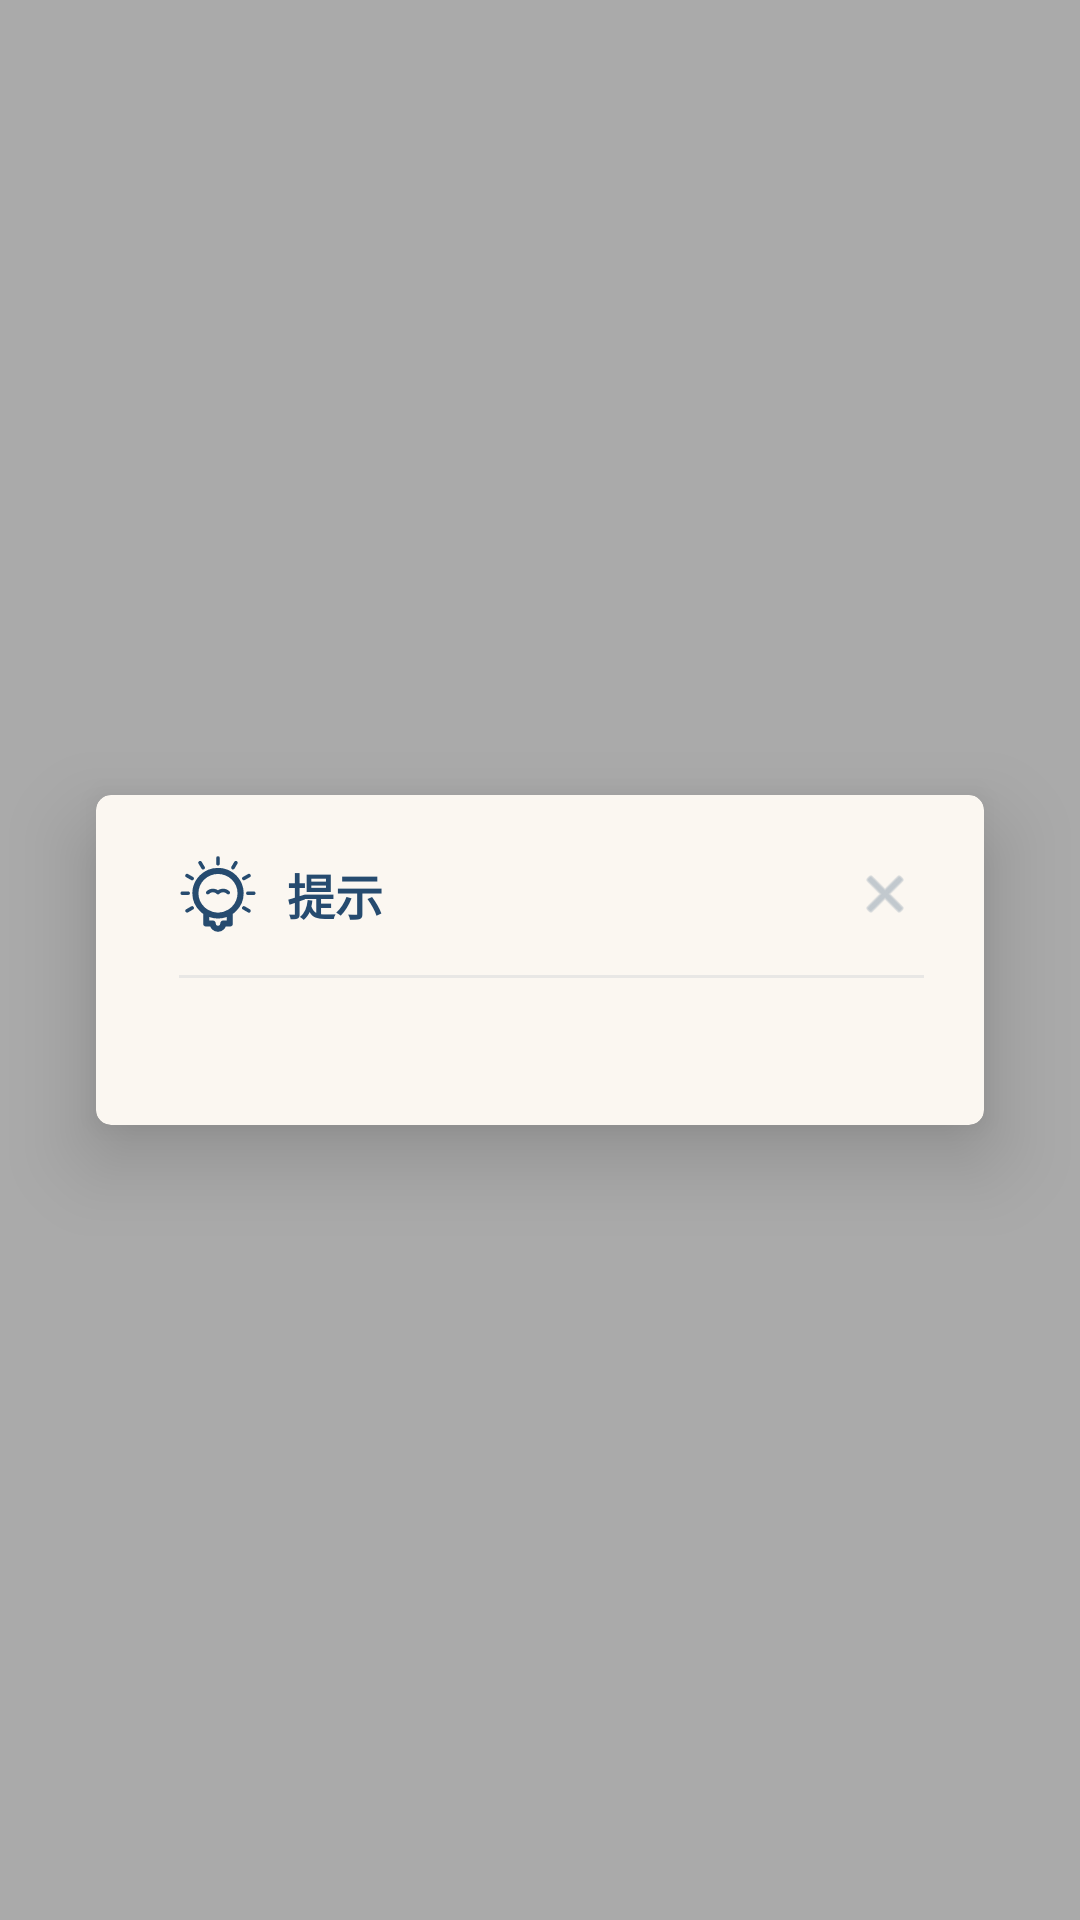

Point at icon controls on the screen. Image size 1080×1920, points as [x,y].
close clear cancel: [885,894]
tip: [218,894]
